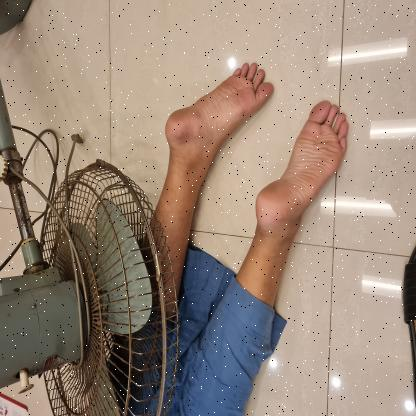leg: (151, 50, 278, 290), (233, 94, 354, 312)
